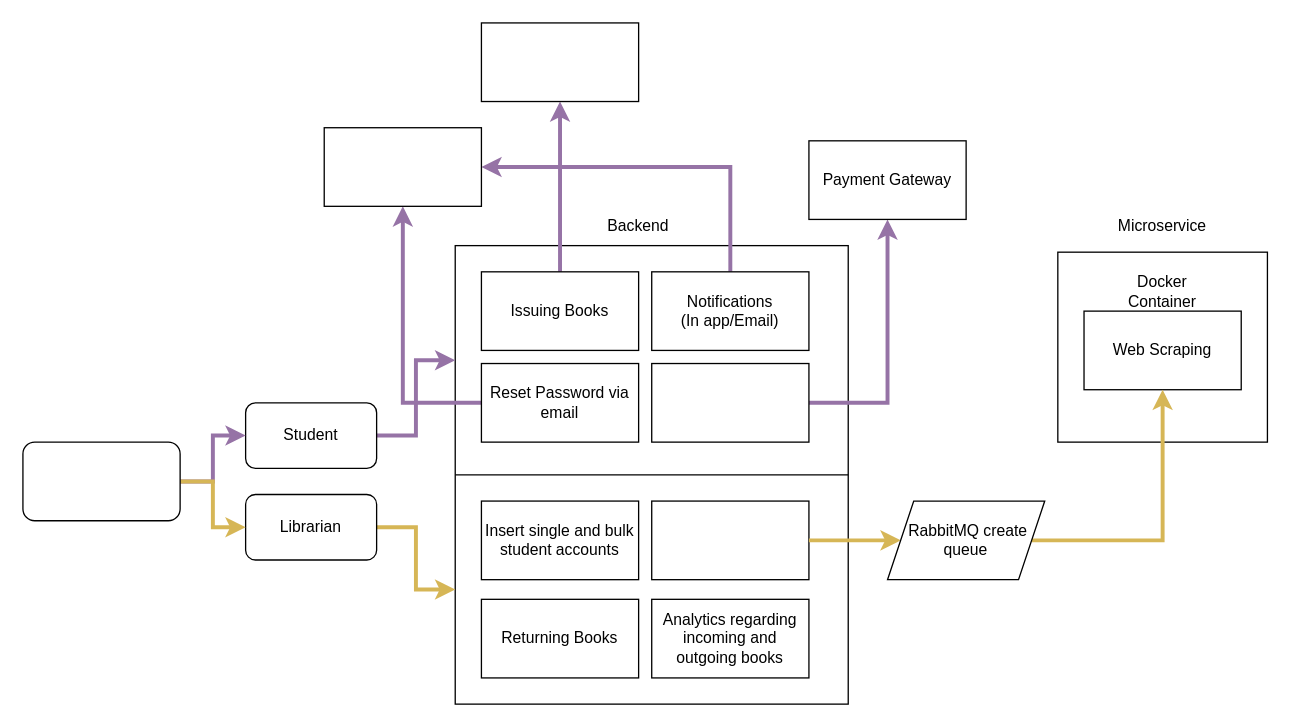
Image size: 1290x727. Some labels were removed from this diagram. The centre of each missing label's shape, as x and y in pixels:
"Barcode scanning" goes at pixel 559 62.
"Insert bulk and single book(s)" goes at pixel 729 540.
"Pay fines via payment gateway/UPI" goes at pixel 729 402.
"SMPT service" goes at pixel 402 166.
"Website" goes at pixel 101 481.
